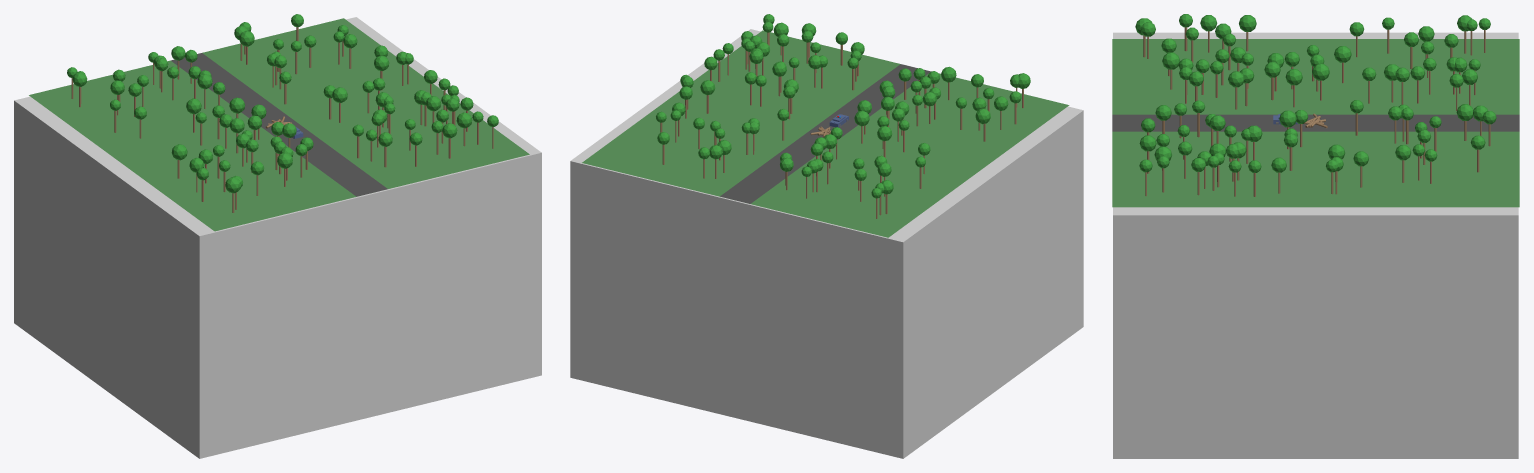
The model's file is balvan_revolucija.fbx.
The picture shows the model from 3 angles, left to right: view 1: azimuth 30°, elevation 25°; view 2: azimuth 150°, elevation 25°; view 3: azimuth 270°, elevation 25°; orthographic projection. The views are drawn at different scales.
Visible parts, largest first — view 1: Cube.304, Plane, Plane.001; view 2: Cube.304, Plane, Plane.001; view 3: Cube.304, Plane, Plane.001.
Boxes of the visible parts, x1,y1,x2,y2 form: Cube.304: [14, 17, 541, 458]; Plane: [29, 18, 529, 231]; Plane.001: [171, 53, 387, 196]; Cube.304: [570, 29, 1083, 458]; Plane: [582, 30, 1069, 237]; Plane.001: [720, 64, 931, 203]; Cube.304: [1113, 32, 1518, 458]; Plane: [1112, 39, 1519, 207]; Plane.001: [1112, 114, 1519, 131].
Size of the model in its own units: 219 by 159 by 207.
